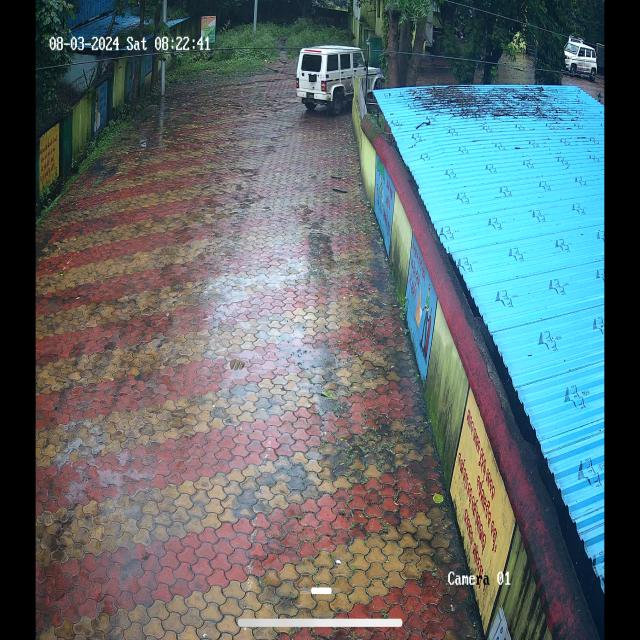light_vehicle: (299, 35, 352, 108), (567, 39, 594, 79)
